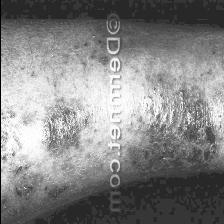Non-Cancerous Skin Condition: (131, 82, 215, 170), (44, 98, 79, 152), (12, 166, 36, 204), (42, 182, 66, 200)
